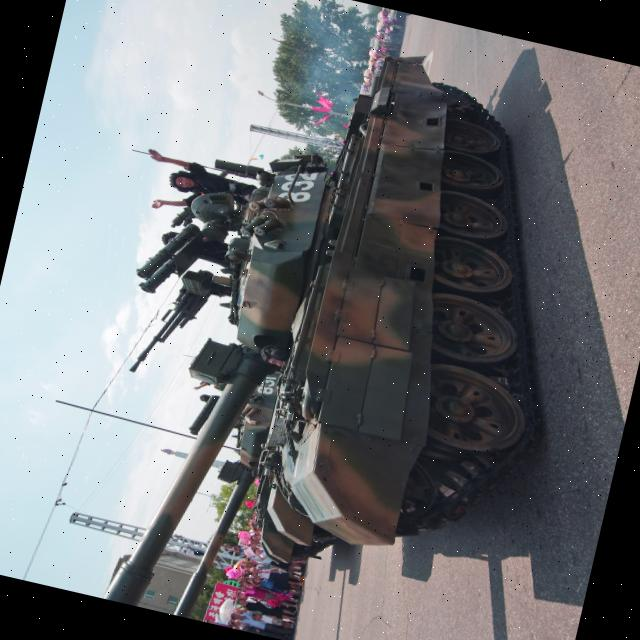north tank: (58, 0, 613, 574), (51, 208, 570, 590), (39, 284, 560, 628)
